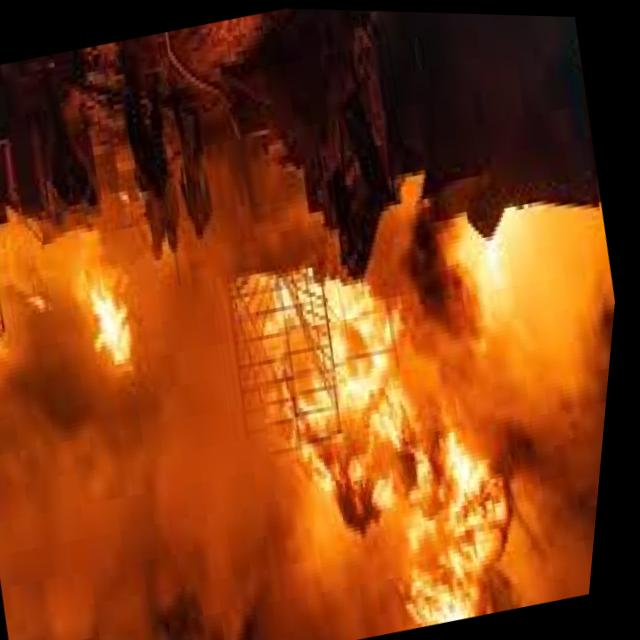Fire: (228, 214, 566, 640), (428, 185, 622, 405), (43, 245, 189, 432)
